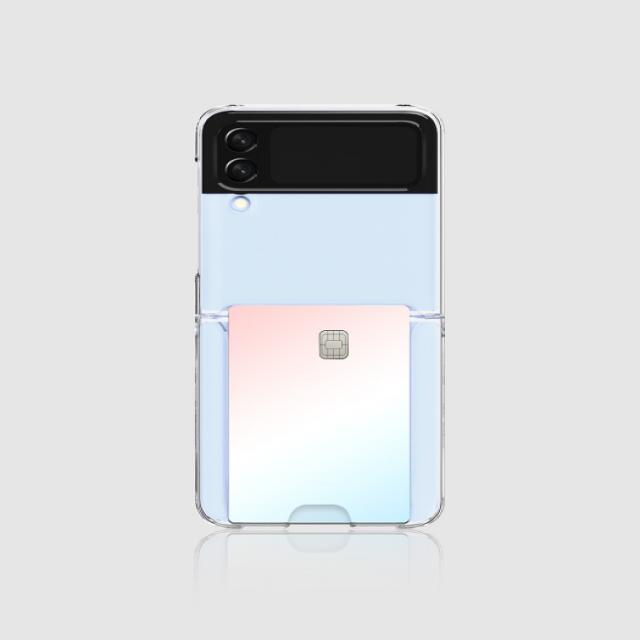phone: (194, 103, 446, 530)
